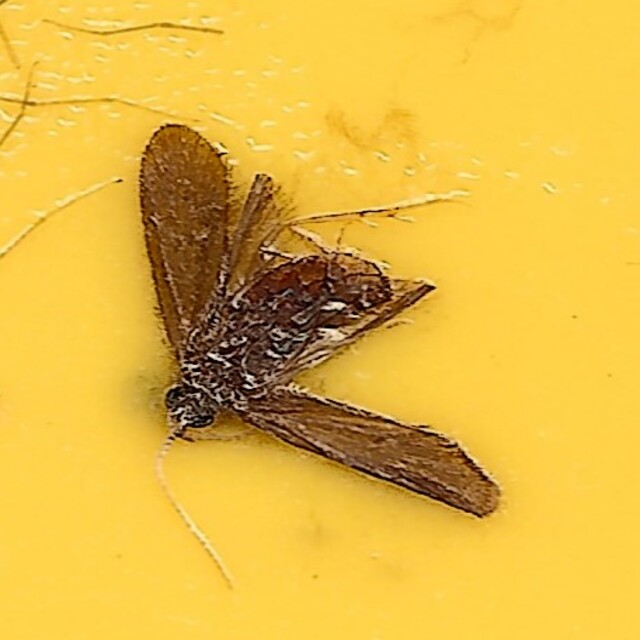Trichoptera: (140, 121, 500, 519)
